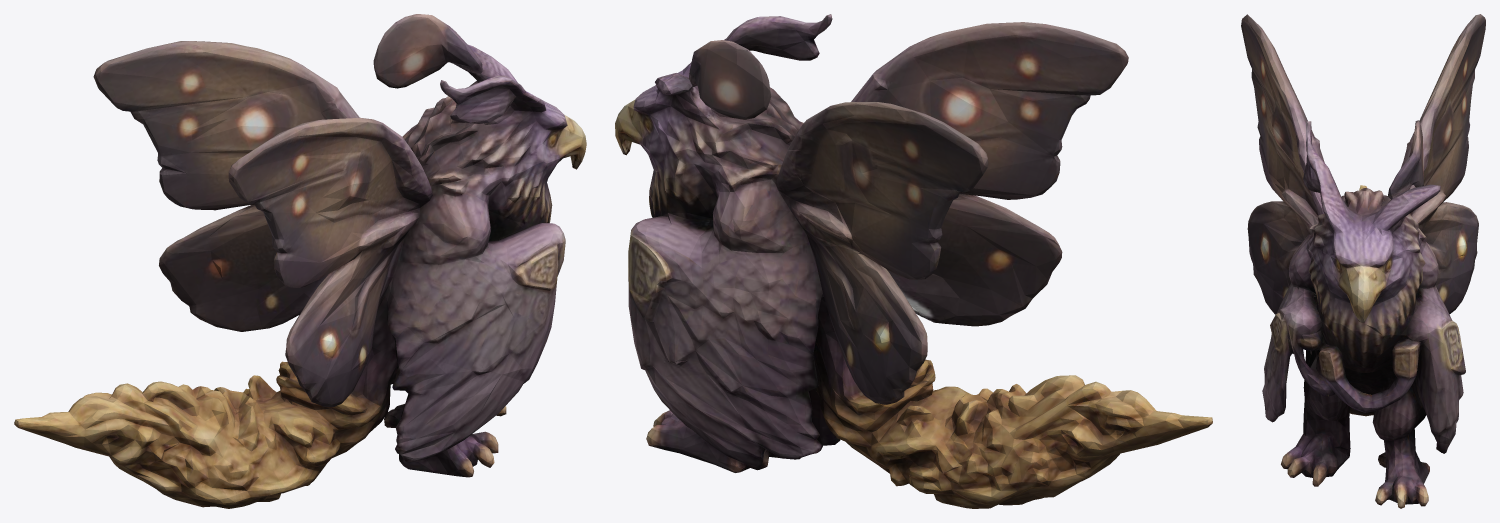
Rendered from lumoth__nightlightGaruda.glb.
3 renders of one model, left to right at view 1: azimuth 30°, elevation 25°; view 2: azimuth 150°, elevation 25°; view 3: azimuth 270°, elevation 25°, orthographic. The views are drawn at different scales.
Visible parts, largest first — view 1: world; view 2: world; view 3: world.
Boxes of the visible parts, x1,y1,x2,y2 form: world: (14,14,586,508); world: (615,14,1212,508); world: (1241,14,1485,508).
Bounding box in the file's own units: 1 × 0.6877 × 0.426.
1 material, 1 textured.
